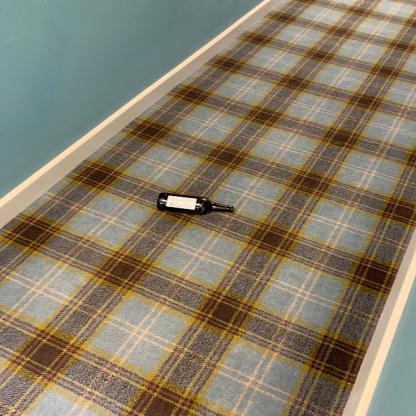trash: (157, 192, 237, 218)
